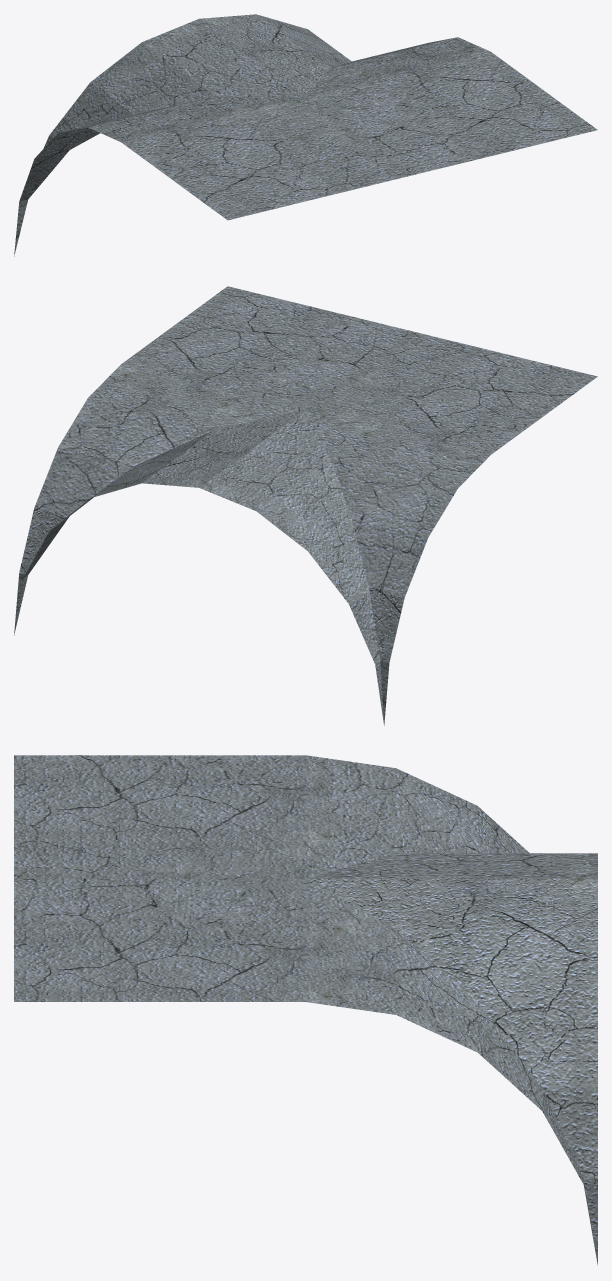
File: ceiling_07.fbx
3 renders of one model, top to bottom at view 1: azimuth 30°, elevation 25°; view 2: azimuth 150°, elevation 25°; view 3: azimuth 270°, elevation 25°, orthographic. The views are drawn at different scales.
Visible parts, largest first — view 1: ceiling_07; view 2: ceiling_07; view 3: ceiling_07.
Part boxes in pixels (x1,y1,x2,y2): ceiling_07: (14, 14, 597, 256); ceiling_07: (14, 286, 597, 725); ceiling_07: (14, 755, 597, 1265).
Bounding box in the file's own units: 100 × 50 × 100.
